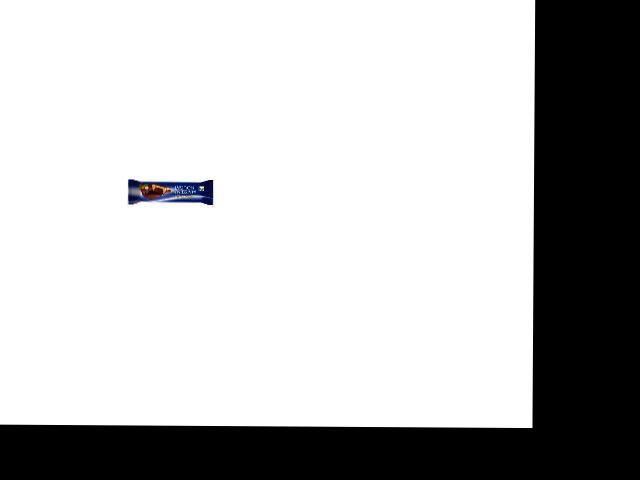chocolate: (116, 170, 215, 206)
